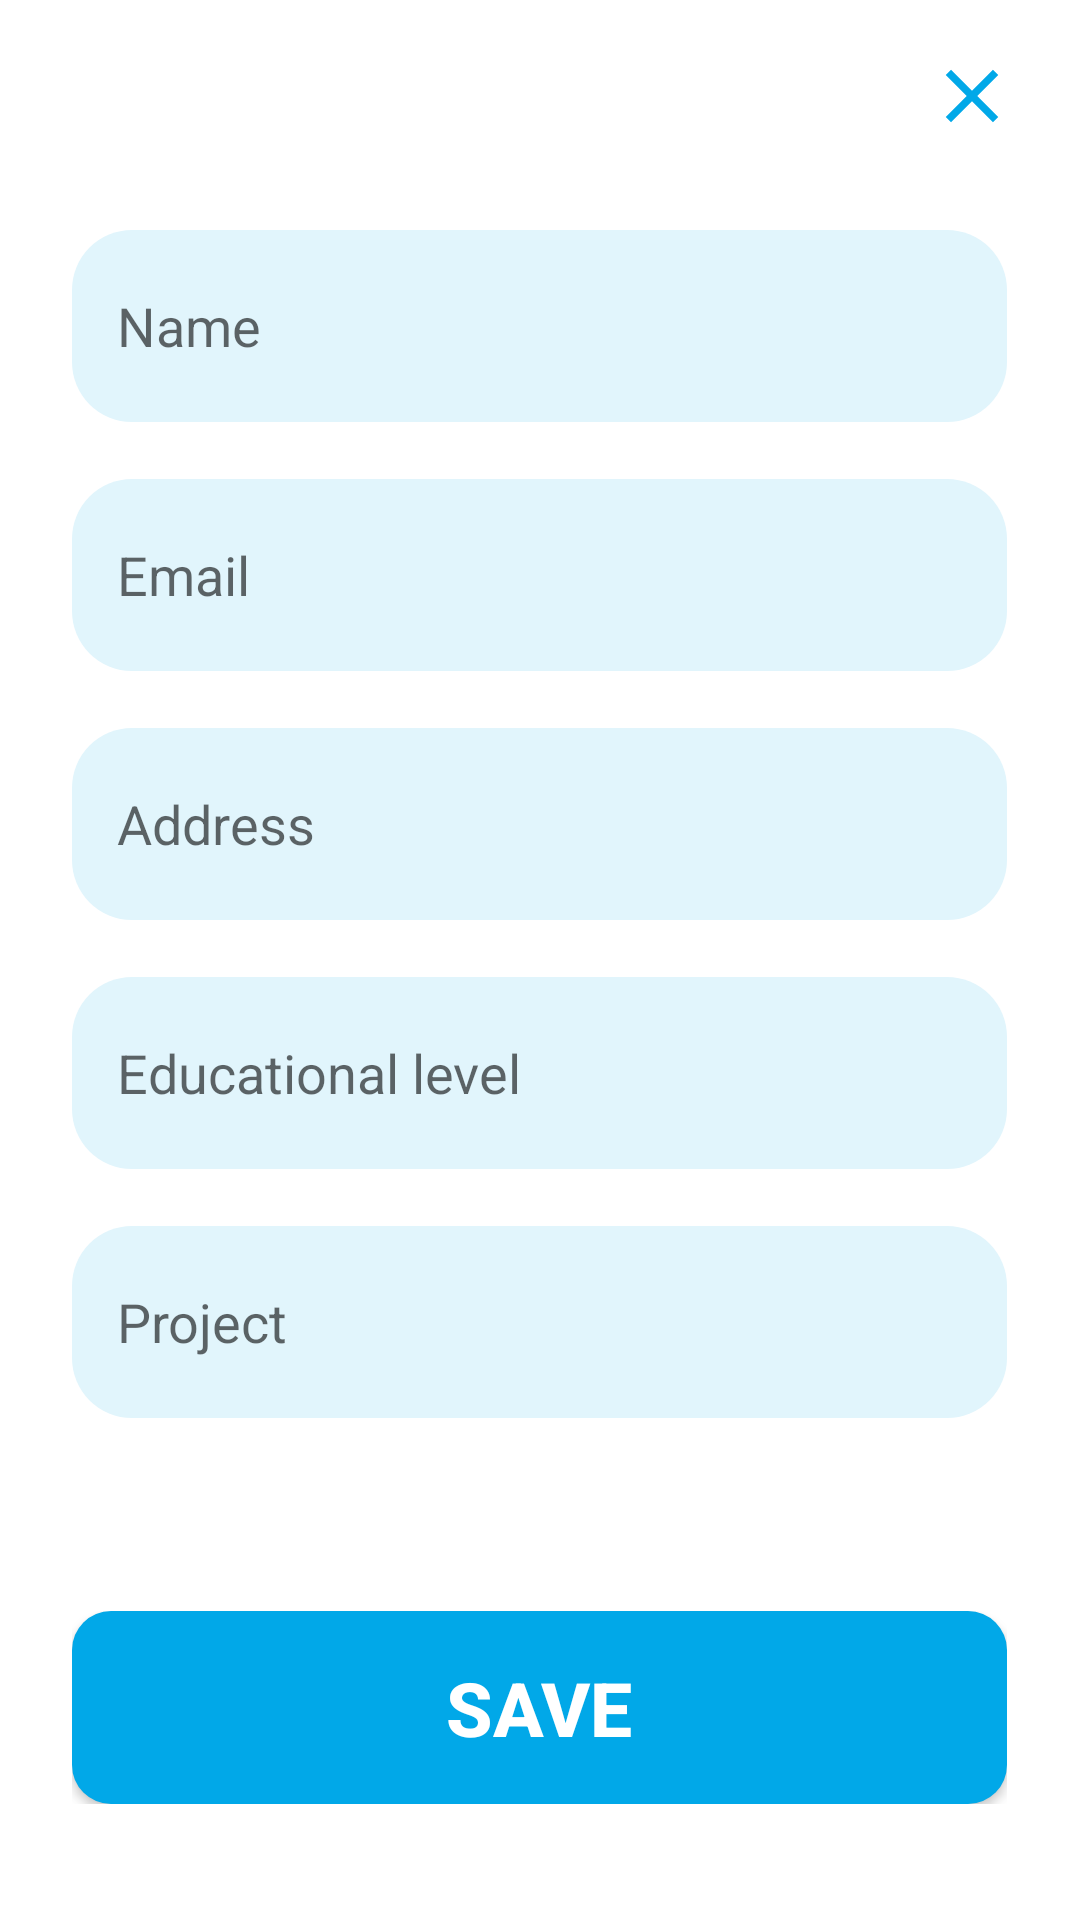

Icon click points for this 1080px x 1920px phone screenshot, format [x,y]:
close: [972,96]
